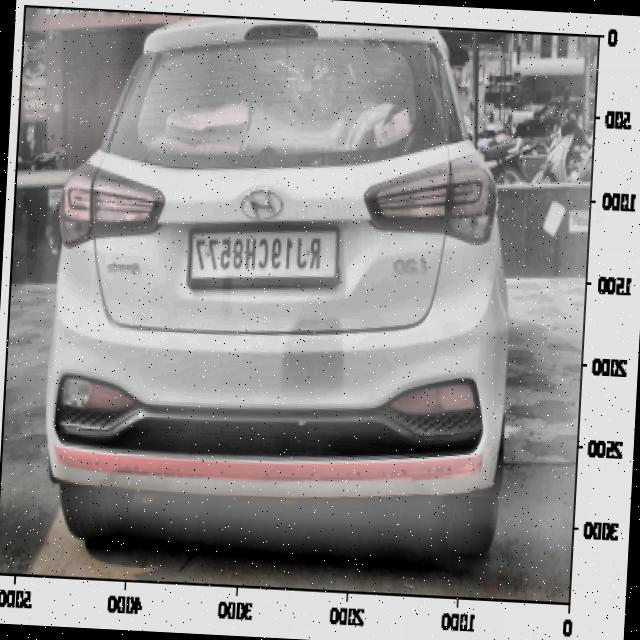license_plate: (190, 222, 330, 284)
